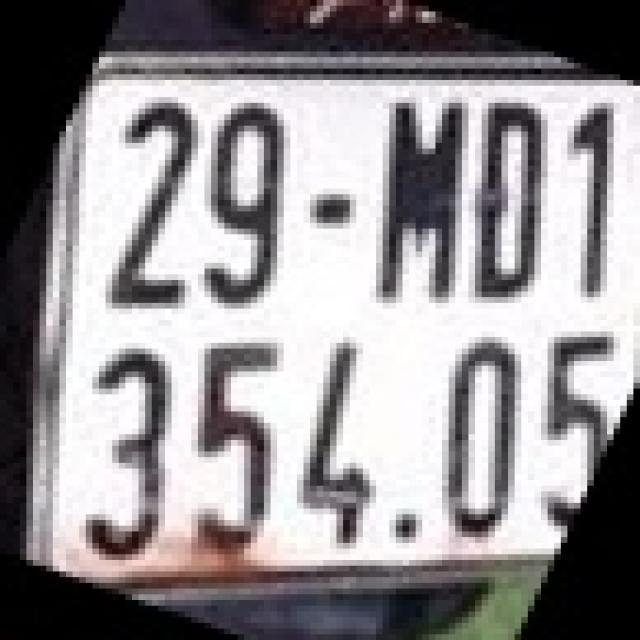0: (442, 342, 521, 538)
1: (568, 103, 614, 303)
2: (112, 108, 192, 303)
3: (86, 348, 172, 554)
4: (297, 342, 376, 548)
5: (191, 343, 277, 554), (541, 337, 614, 514)
9: (204, 108, 284, 303)
D: (475, 102, 554, 298)
M: (380, 97, 466, 303)
